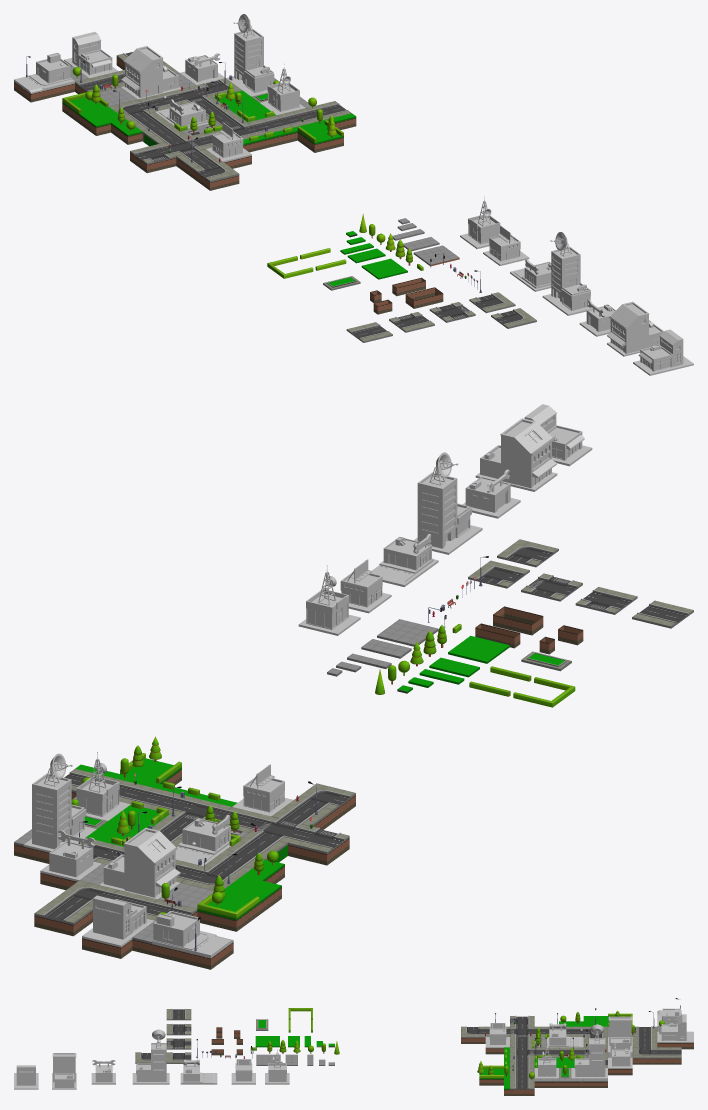
The model's file is city-toon-3d-low-poly-pack.fbx.
3 views of the same model, one above another, from view 1: azimuth 30°, elevation 25°; view 2: azimuth 150°, elevation 25°; view 3: azimuth 270°, elevation 25° (orthographic). The views are drawn at different scales.
Parts seen in each view (by area): view 1: building5_building02_0, building5.003_building02_0, building7.001_building02_0, building7_building02_0, building8_building02_0, building8.001_building02_0, building1.003_buildings01_0, building1.005_buildings01_0, building1_buildings01_0, building3_buildings01_0, building3.001_buildings01_0, building4.001_buildings01_0 (+13 smaller); view 2: building5_building02_0, building7_building02_0, building7.001_building02_0, building5.003_building02_0, building8.001_building02_0, building1.003_buildings01_0, building4_buildings01_0, building1_buildings01_0, building4.001_buildings01_0, building1.005_buildings01_0, building8_building02_0, building3.001_buildings01_0 (+19 smaller); view 3: building5_building02_0, building5.003_building02_0, building7_building02_0, building7.001_building02_0, building8.001_building02_0, building4_buildings01_0, building4.001_buildings01_0, building8_building02_0, building1_buildings01_0, building3_buildings01_0, building3.001_buildings01_0, building1.005_buildings01_0 (+28 smaller).
Boxes of the visible parts, x1,y1,x2,y2 form: building5_building02_0: (542, 232, 596, 315); building5.003_building02_0: (226, 14, 274, 96); building7.001_building02_0: (121, 46, 180, 99); building7_building02_0: (607, 301, 663, 356); building8_building02_0: (633, 329, 693, 375); building8.001_building02_0: (64, 32, 118, 78); building1.003_buildings01_0: (14, 52, 74, 93); building1.005_buildings01_0: (260, 68, 305, 114); building1_buildings01_0: (460, 201, 500, 249); building3_buildings01_0: (483, 225, 529, 265); building3.001_buildings01_0: (206, 122, 251, 162); building4.001_buildings01_0: (155, 99, 208, 128); building5_building02_0: (414, 452, 482, 554); building7_building02_0: (475, 418, 557, 491); building7.001_building02_0: (100, 827, 180, 899); building5.003_building02_0: (23, 753, 96, 852); building8.001_building02_0: (82, 895, 154, 947); building1.003_buildings01_0: (152, 911, 233, 958); building4_buildings01_0: (371, 533, 438, 586); building1_buildings01_0: (298, 571, 360, 635); building4.001_buildings01_0: (175, 814, 230, 866); building1.005_buildings01_0: (76, 758, 130, 820); building8_building02_0: (524, 404, 592, 466); building3.001_buildings01_0: (232, 764, 293, 816); building5_building02_0: (132, 1029, 169, 1084); building5.003_building02_0: (571, 1024, 607, 1078); building7_building02_0: (52, 1053, 76, 1089); building7.001_building02_0: (608, 1016, 632, 1052); building8.001_building02_0: (657, 1014, 693, 1042); building4_buildings01_0: (180, 1059, 217, 1084); building4.001_buildings01_0: (547, 1023, 583, 1047); building8_building02_0: (14, 1065, 38, 1089); building1_buildings01_0: (265, 1052, 289, 1084); building3_buildings01_0: (231, 1059, 255, 1084); building3.001_buildings01_0: (485, 1023, 509, 1048); building1.005_buildings01_0: (534, 1047, 558, 1078).
Size of the model in its own units: 1538 by 495 by 5545.
